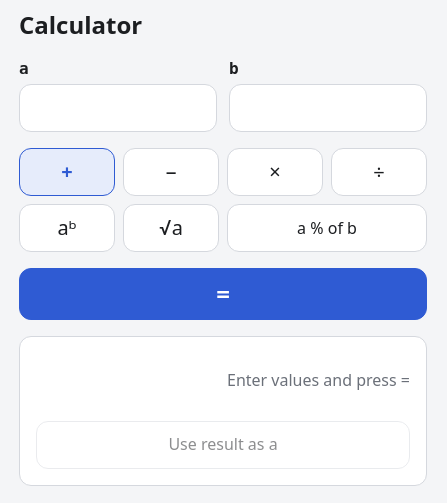
Test case: Calculator › shows the error returned by the API
In the field labelled "a": (118, 108) [19, 84, 217, 132], type "7"
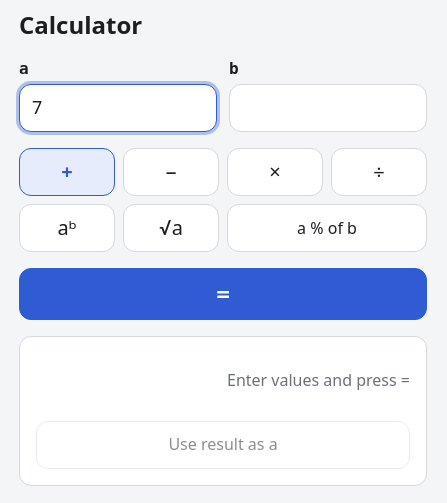
In the field labelled "b": (328, 108) [229, 84, 427, 132], type "0"
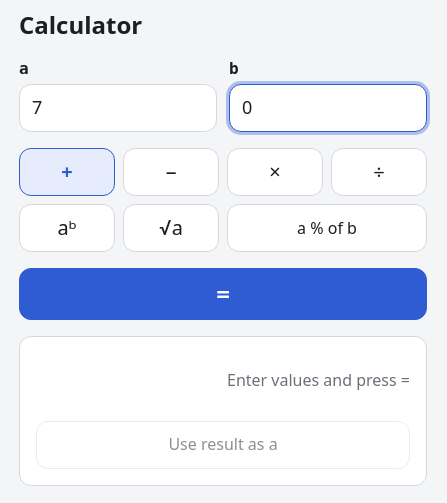
Click the button named "Divide": (379, 172) [331, 148, 427, 196]
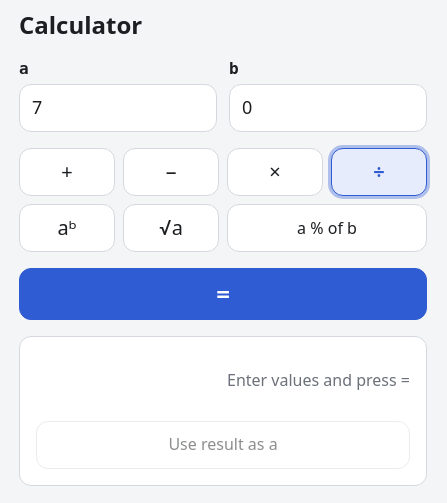
Click the button "=": (223, 294) [19, 268, 427, 320]
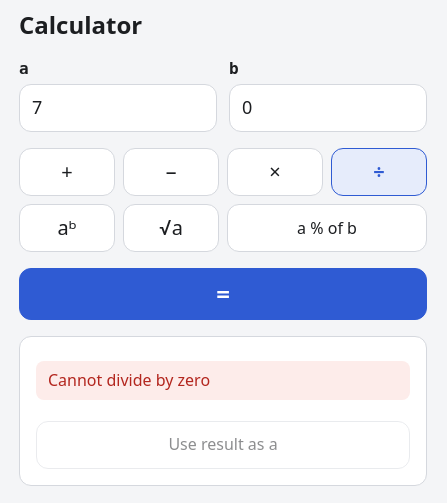
Expected: the message reads "Cannot divide by zero", [48, 369, 210, 391]
